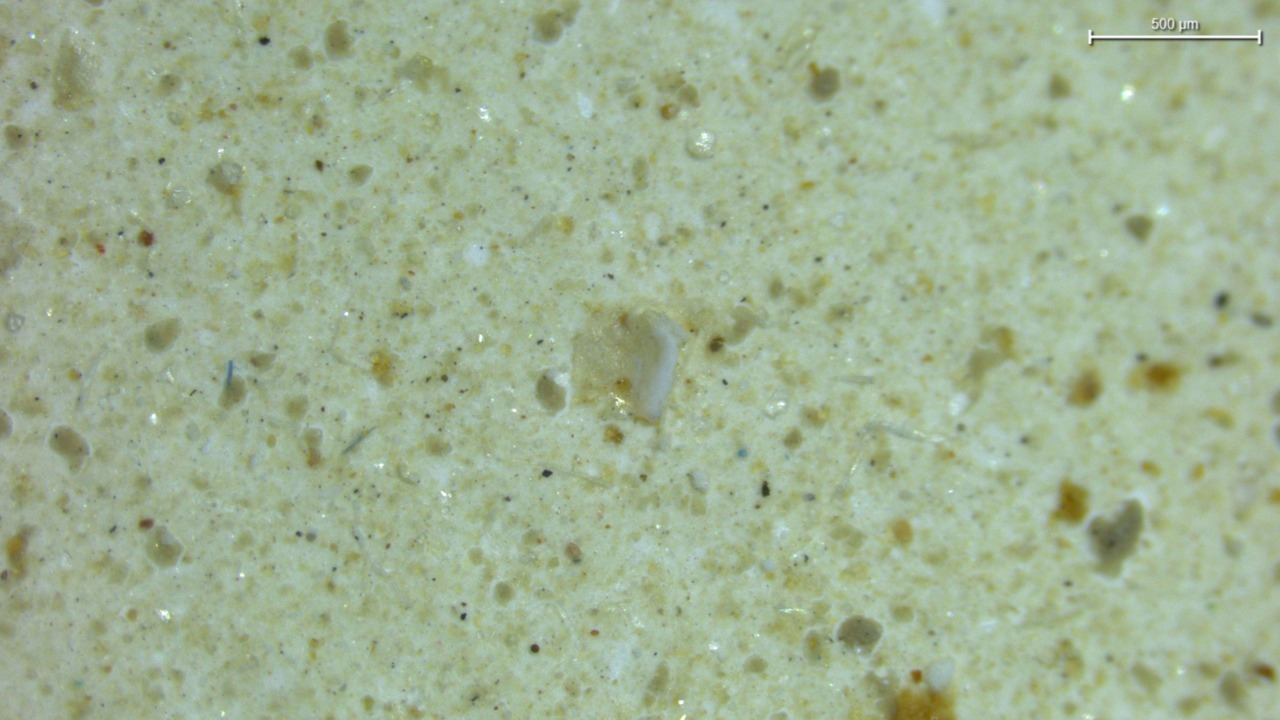microplastic_fragment: (571, 307, 685, 423)
